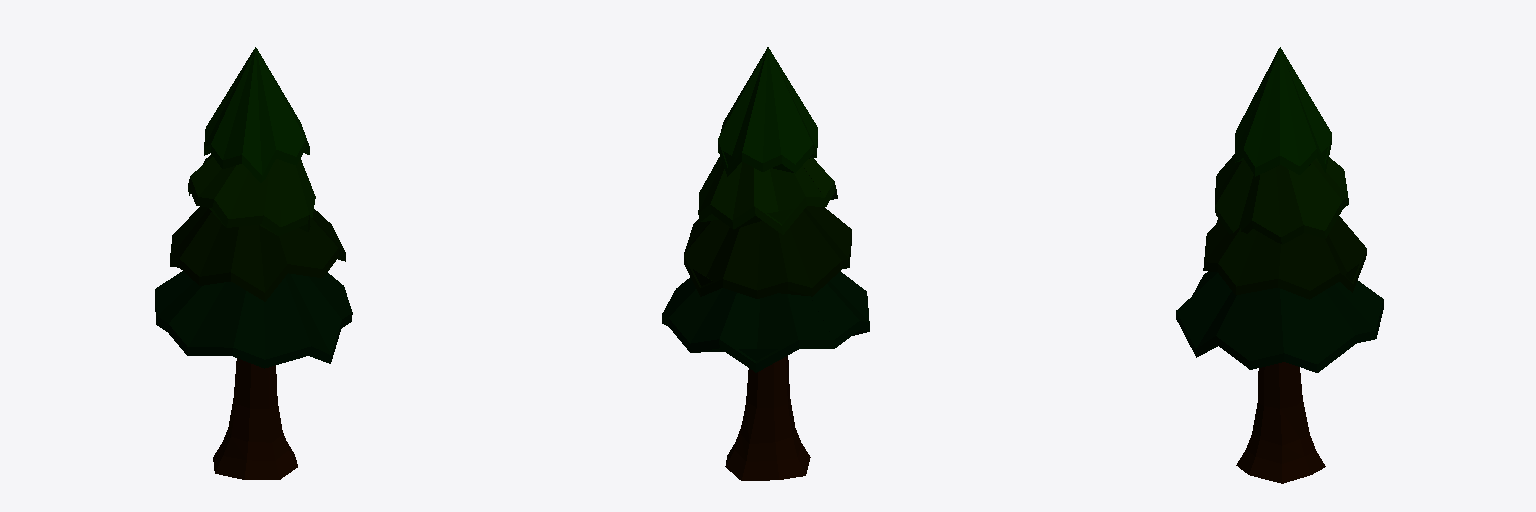
The model's file is PineTree.obj.
The picture shows the model from 3 angles: view 1: azimuth 30°, elevation 25°; view 2: azimuth 150°, elevation 25°; view 3: azimuth 270°, elevation 25°; orthographic projection.
Visible parts, largest first — view 1: Cylinder; view 2: Cylinder; view 3: Cylinder.
Boxes of the visible parts, x1=… form: Cylinder: x1=155, y1=47, x2=352, y2=479; Cylinder: x1=662, y1=47, x2=869, y2=480; Cylinder: x1=1176, y1=47, x2=1383, y2=483.
Size of the model in its own units: 6 by 13.33 by 6.